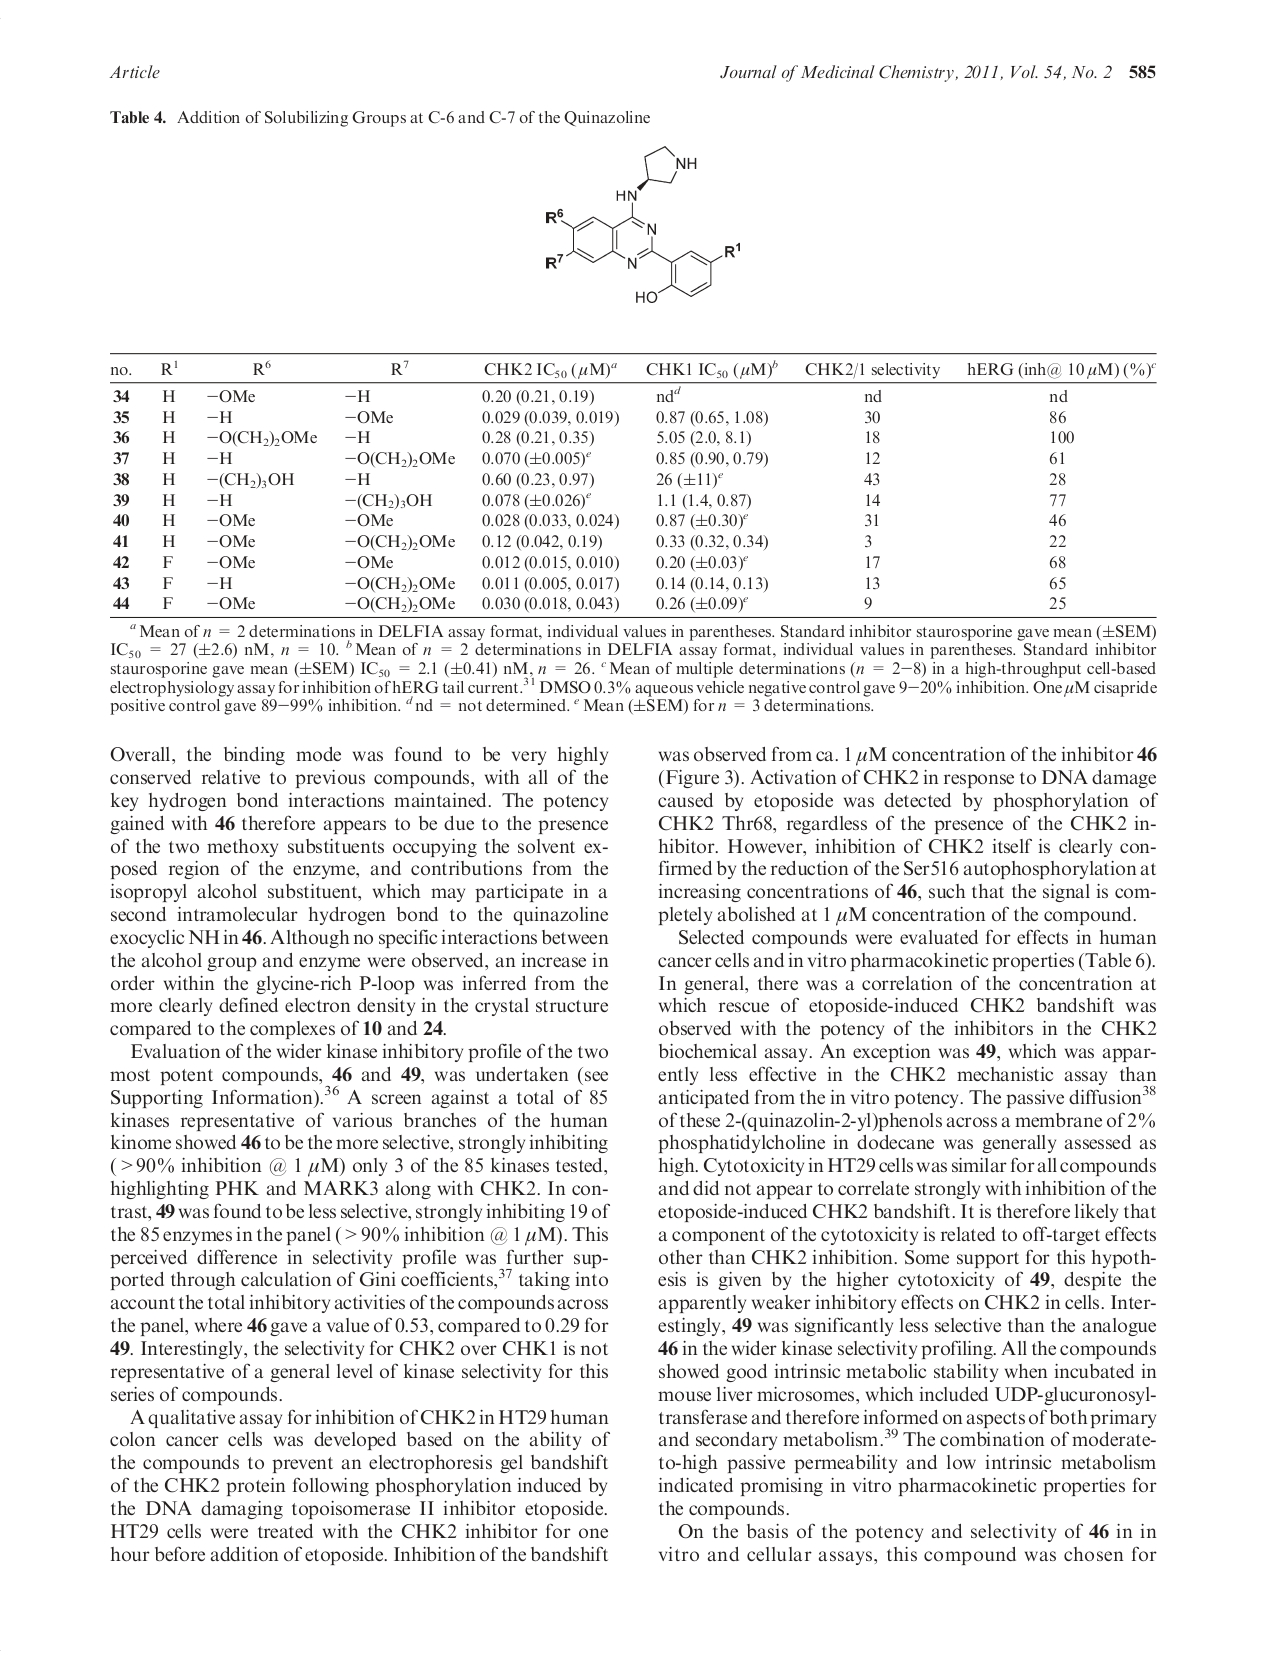exist_molecular: (535, 142, 742, 313)
